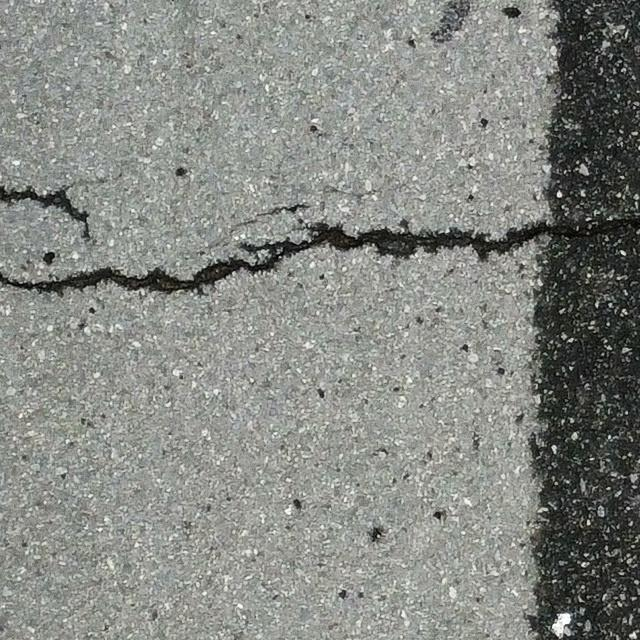TransverseCrack: (1, 216, 640, 298), (1, 183, 98, 242)
